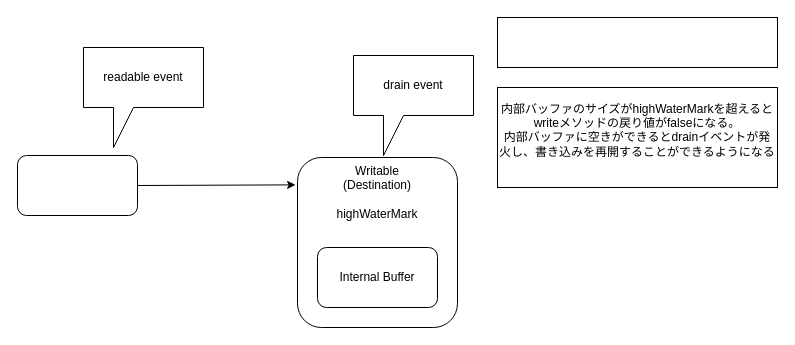
The diagram is 795 pixels wide and 345 high, and some of its shapes have lost their labels. Each missing label, with the centre of its shape:
Readable (Data Source): the point at 77,185
内部バッファのサイズはhighWaterMarkで決まる: the point at 637,42
